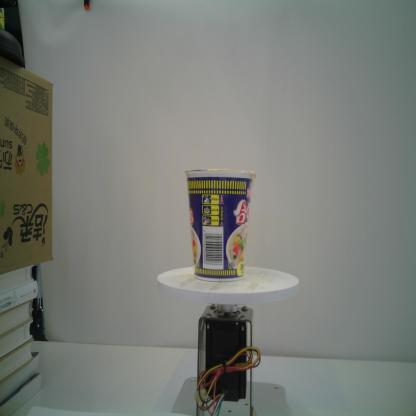Instant Noodles: (183, 167, 257, 283)
